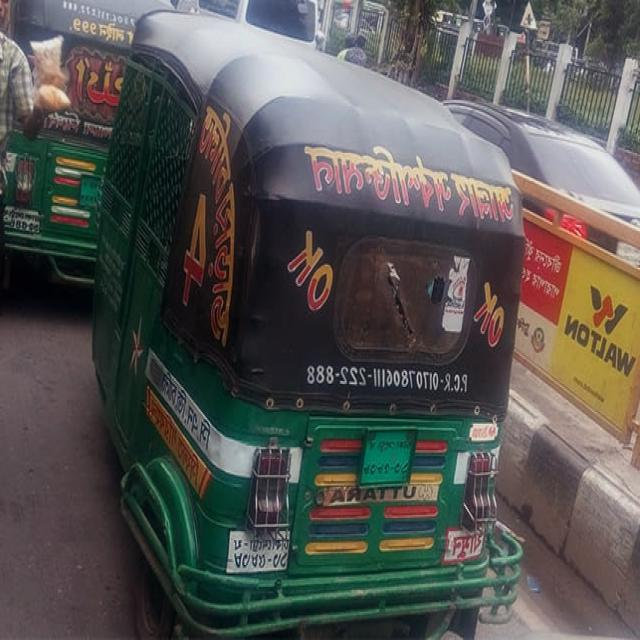CNG: (68, 15, 528, 640)
